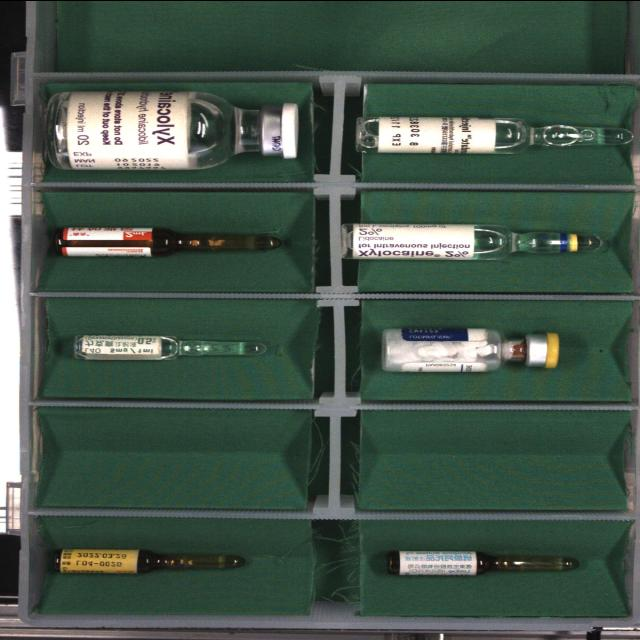Vials: (46, 89, 299, 170), (382, 327, 559, 371)
